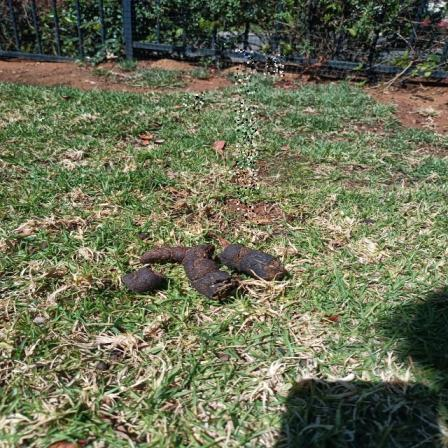dog-poop: (129, 238, 283, 296)
